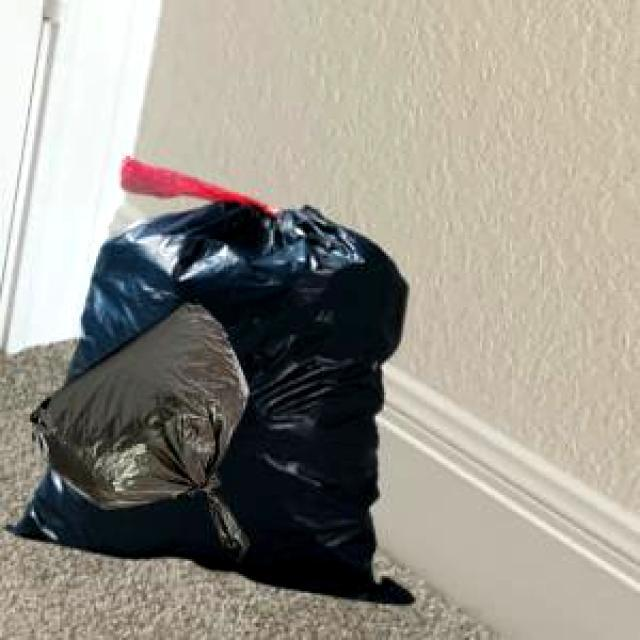Garbage_Bag: (3, 154, 411, 600), (27, 300, 246, 558)
